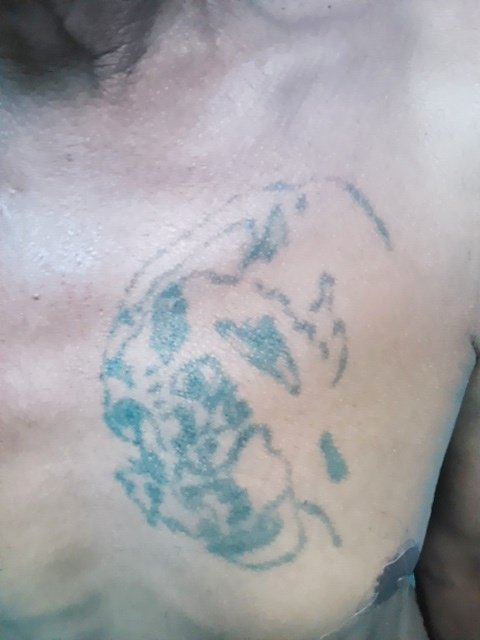tatu8_kot: (39, 131, 444, 599)
